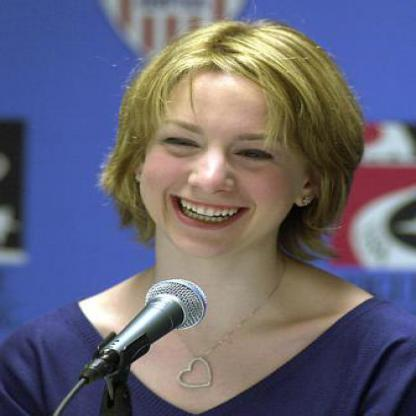face: (140, 32, 316, 260)
